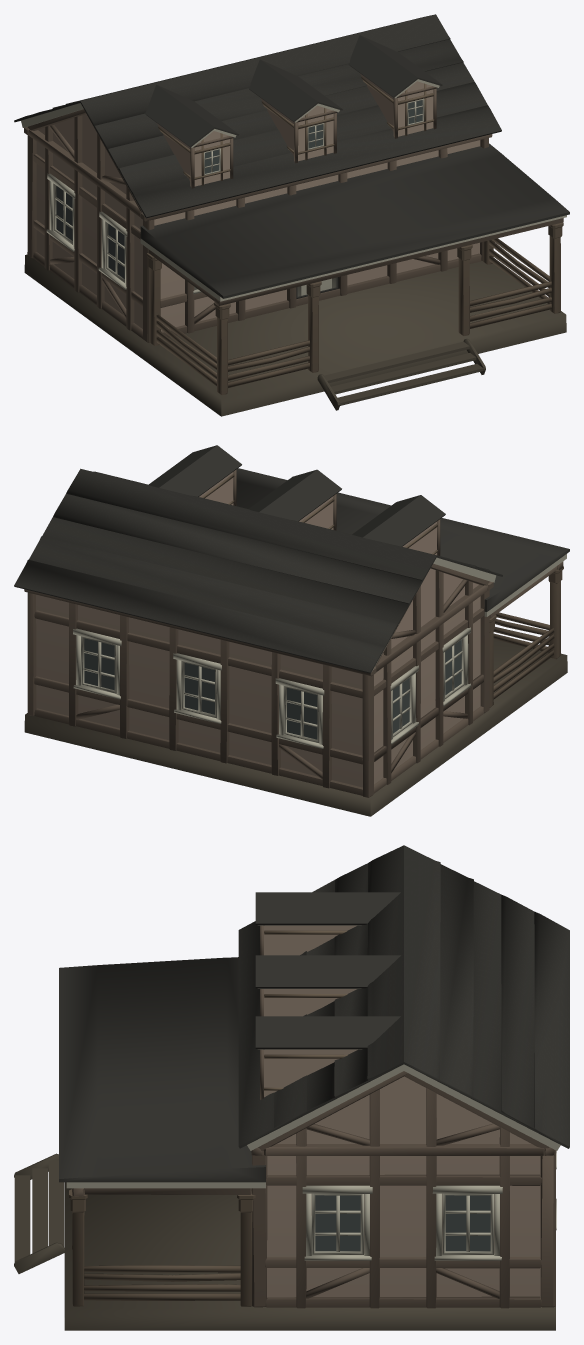
File: farm_house_5.glb
The picture shows the model from 3 angles, top to bottom: view 1: azimuth 30°, elevation 25°; view 2: azimuth 150°, elevation 25°; view 3: azimuth 270°, elevation 25°; orthographic projection. The views are drawn at different scales.
Parts seen in each view (by area): view 1: farm_house_5; view 2: farm_house_5; view 3: farm_house_5.
Boxes of the visible parts, <box> form: farm_house_5: <box>14,14,569,416</box>; farm_house_5: <box>14,445,569,816</box>; farm_house_5: <box>14,845,569,1330</box>.
Bounding box in the file's own units: 10.64 × 6.34 × 11.53.
Materials: 1 (1 with a texture image).
